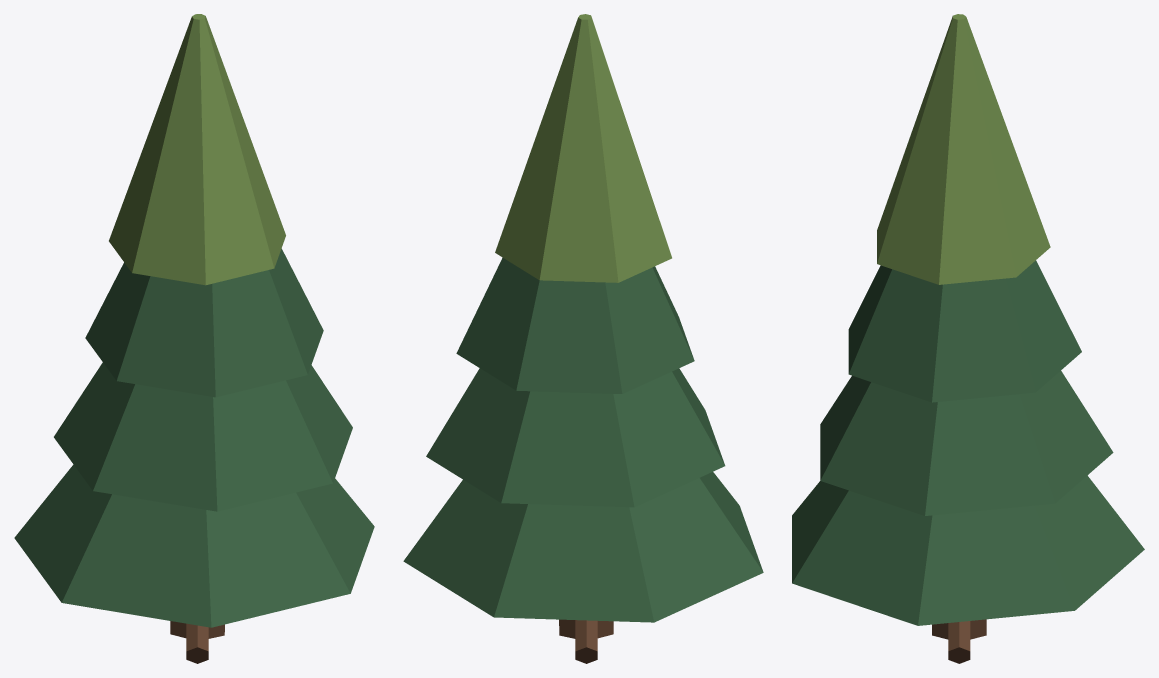
Rendered from Pine_A.fbx.
3 renders of one model, left to right at view 1: azimuth 30°, elevation 25°; view 2: azimuth 150°, elevation 25°; view 3: azimuth 270°, elevation 25°, orthographic.
Visible parts, largest first — view 1: Pine_A; view 2: Pine_A; view 3: Pine_A.
Part boxes in pixels (box(x1,y1,x2,y2)): Pine_A: box(14, 14, 374, 663); Pine_A: box(403, 14, 763, 663); Pine_A: box(792, 14, 1144, 663).
Size of the model in its own units: 1.26 by 2.35 by 1.22.
1 material, 1 textured.
